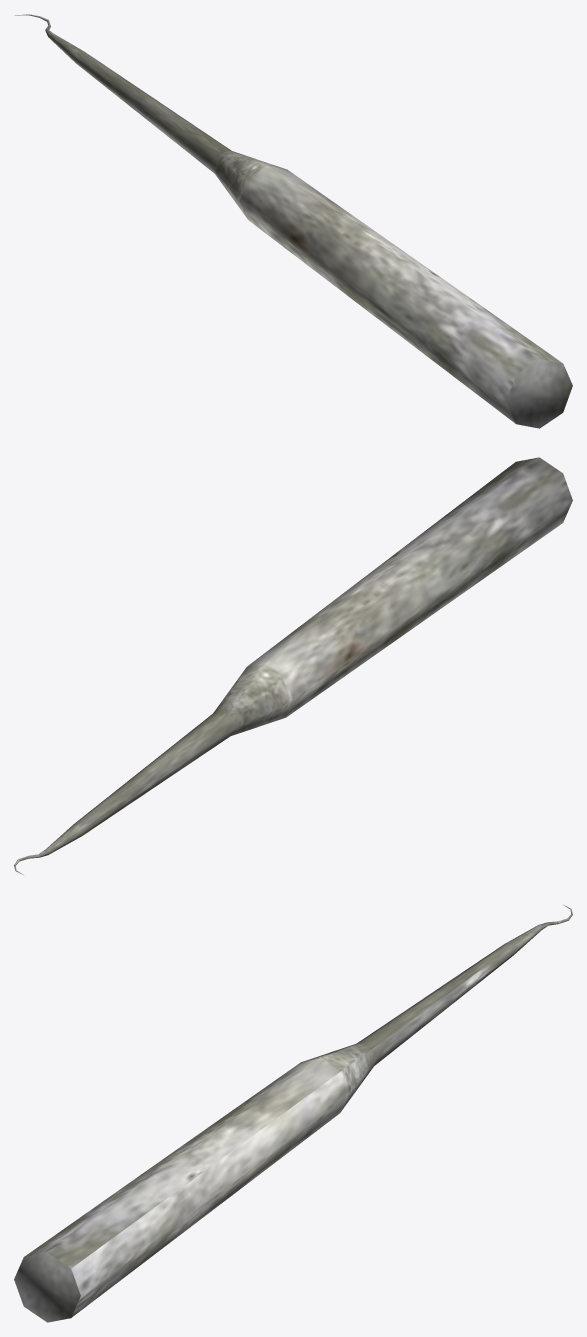
File: lockpick.fbx
3 renders of one model, top to bottom at view 1: azimuth 30°, elevation 25°; view 2: azimuth 150°, elevation 25°; view 3: azimuth 330°, elevation 25°, orthographic.
Visible parts, largest first — view 1: Lockpick; view 2: Lockpick; view 3: Lockpick.
Boxes of the visible parts, <box> form: Lockpick: <box>15,14,572,428</box>; Lockpick: <box>14,457,572,874</box>; Lockpick: <box>14,905,572,1322</box>.
Size of the model in its own units: 0.7508 by 0.7508 by 10.12.
